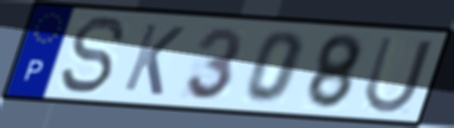0: (243, 29, 306, 107)
3: (185, 25, 245, 102)
8: (302, 30, 366, 113)
K: (119, 21, 188, 99)
S: (58, 14, 129, 96)
U: (359, 34, 437, 116)
